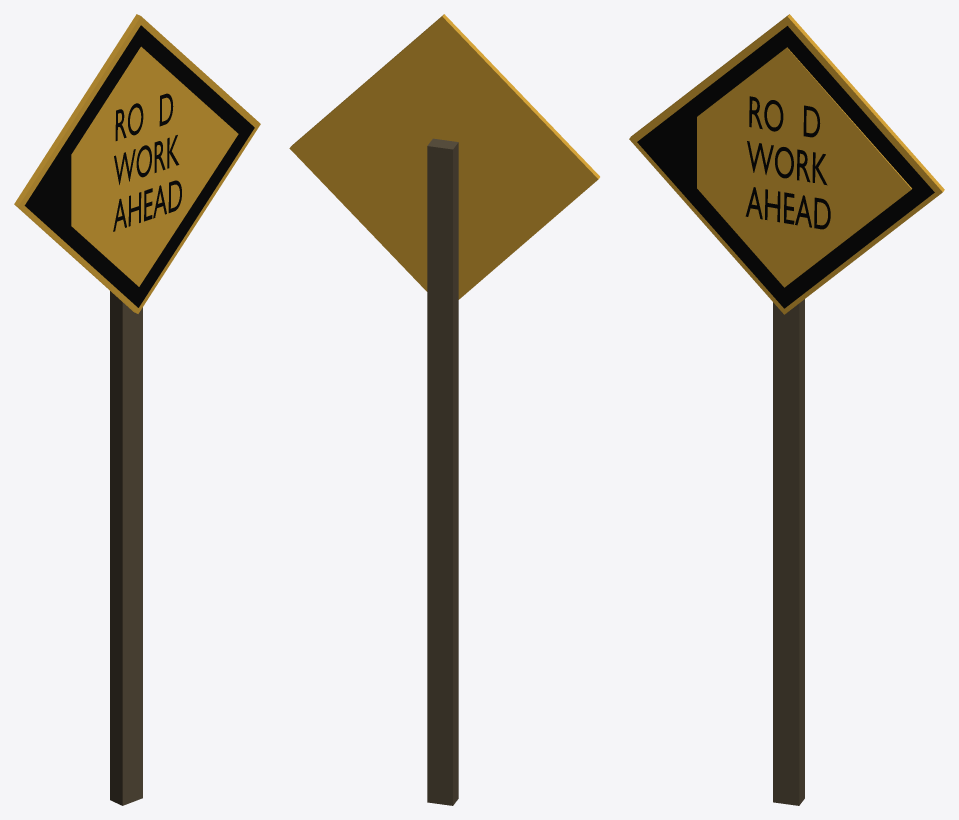
File: roadWorkSign.fbx
3 renders of one model, left to right at view 1: azimuth 30°, elevation 25°; view 2: azimuth 150°, elevation 25°; view 3: azimuth 330°, elevation 25°, orthographic.
Visible parts, largest first — view 1: Cube.003, Cube, Cube.002, Cube.001, Text; view 2: Cube.001, Cube; view 3: Cube.003, Cube, Cube.002, Cube.001, Text.
Boxes of the visible parts, <box> form: Cube.003: <box>71,46,238,286</box>; Cube: <box>110,291,142,805</box>; Cube.002: <box>24,25,254,307</box>; Cube.001: <box>14,14,260,313</box>; Text: <box>113,93,181,231</box>; Cube.001: <box>289,14,599,299</box>; Cube: <box>427,138,458,805</box>; Cube.003: <box>697,47,911,287</box>; Cube: <box>773,299,804,805</box>; Cube.002: <box>637,26,934,308</box>; Cube.001: <box>629,14,944,314</box>; Text: <box>745,96,830,229</box>.
Size of the model in its own units: 259 by 699 by 61.29.
